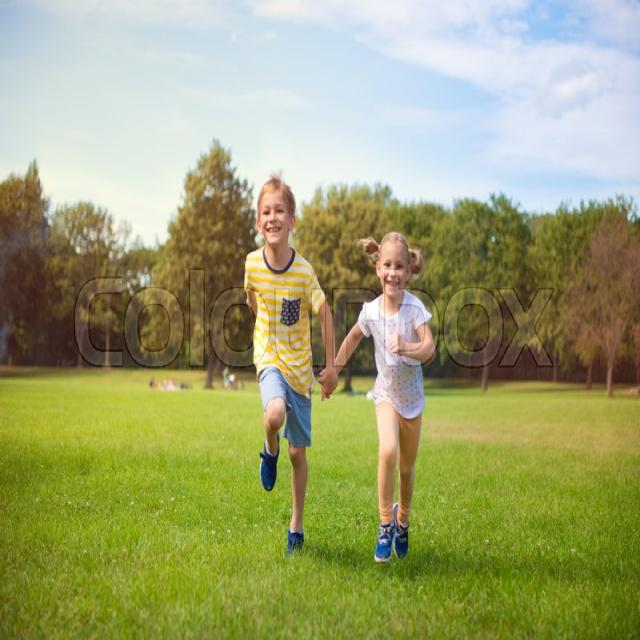Person: (321, 232, 438, 564), (246, 176, 336, 557)
